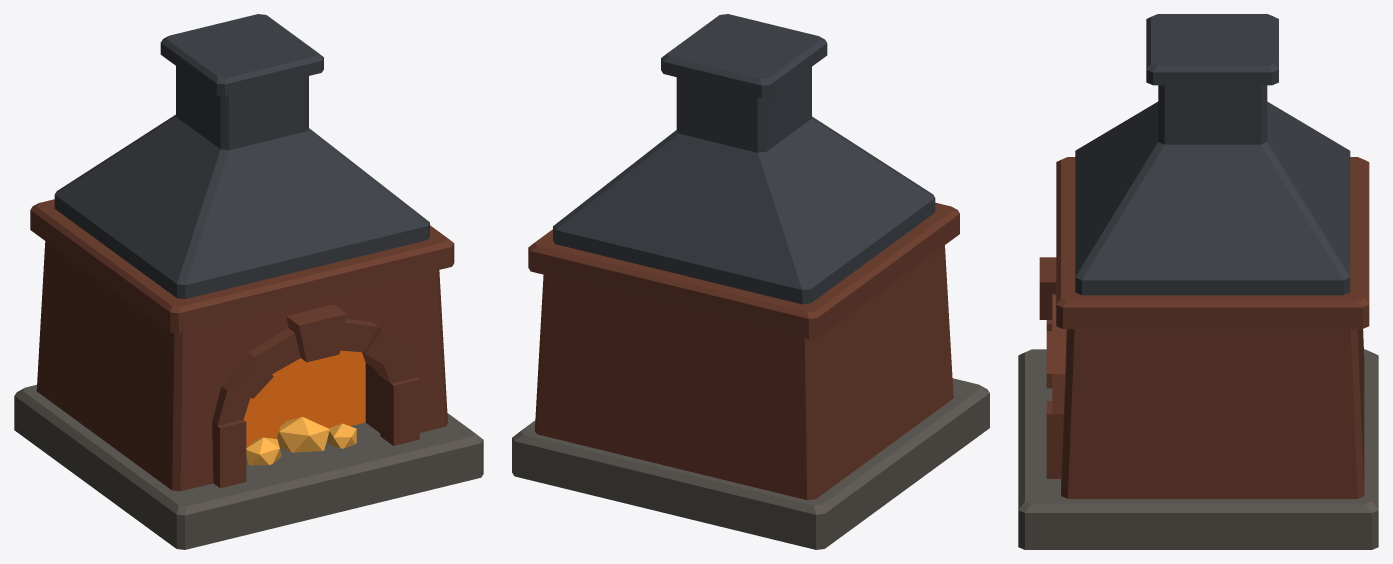
Rendered from FRG_Furnace.fbx.
3 views of the same model, side by side, from view 1: azimuth 30°, elevation 25°; view 2: azimuth 150°, elevation 25°; view 3: azimuth 270°, elevation 25° (orthographic). The views are drawn at different scales.
Visible parts, largest first — view 1: Body, Hood, Base, Glow, Embers; view 2: Body, Hood, Base; view 3: Body, Hood, Base.
Boxes of the visible parts, <box> form: Body: <box>30,199,454,491</box>; Hood: <box>54,14,429,298</box>; Base: <box>14,385,483,549</box>; Glow: <box>243,350,365,447</box>; Embers: <box>246,416,356,465</box>; Body: <box>528,202,959,500</box>; Hood: <box>553,14,935,304</box>; Base: <box>512,378,989,549</box>; Body: <box>1039,157,1369,498</box>; Hood: <box>1075,14,1350,295</box>; Base: <box>1018,349,1378,549</box>.
Bounding box in the file's own units: 8 × 10 × 7.6.
